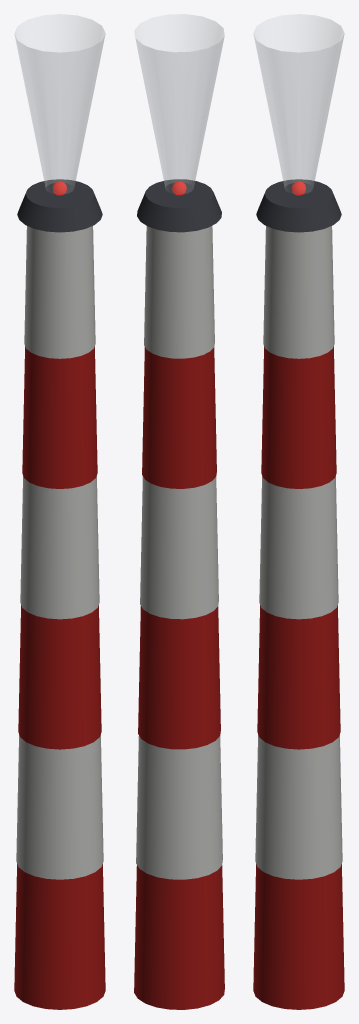
Rendered from prop_chimney.glb.
3 views of the same model, side by side, from view 1: azimuth 90°, elevation 25°; view 2: azimuth 150°, elevation 25°; view 3: azimuth 270°, elevation 25° (orthographic).
Visible parts, largest first — view 1: Chimney; view 2: Chimney; view 3: Chimney.
Part boxes in pixels (x1=…): Chimney: x1=14, y1=14, x2=105, y2=1009; Chimney: x1=134, y1=14, x2=224, y2=1009; Chimney: x1=253, y1=14, x2=344, y2=1009.
Bounding box in the file's own units: 3.2 × 37 × 3.2.
